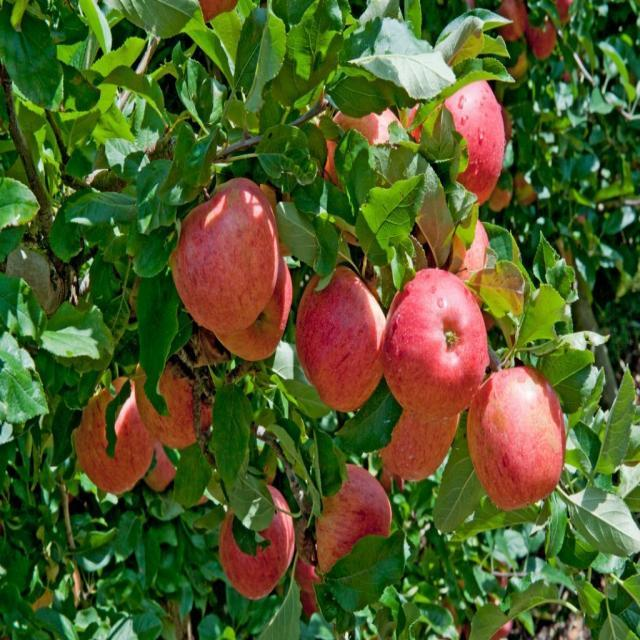Red Apple: (388, 257, 493, 417), (176, 183, 279, 335), (301, 267, 389, 407), (482, 369, 564, 501), (424, 77, 510, 201), (219, 250, 296, 361), (317, 468, 392, 576), (79, 381, 156, 481), (381, 365, 454, 468), (228, 492, 299, 595), (144, 352, 217, 445), (430, 217, 500, 306), (328, 102, 398, 187), (135, 413, 179, 490), (475, 1, 529, 57), (529, 1, 574, 53), (492, 165, 536, 214), (292, 562, 331, 614), (196, 1, 247, 27), (369, 462, 407, 495), (480, 610, 516, 640), (485, 571, 513, 597), (438, 601, 466, 627)
